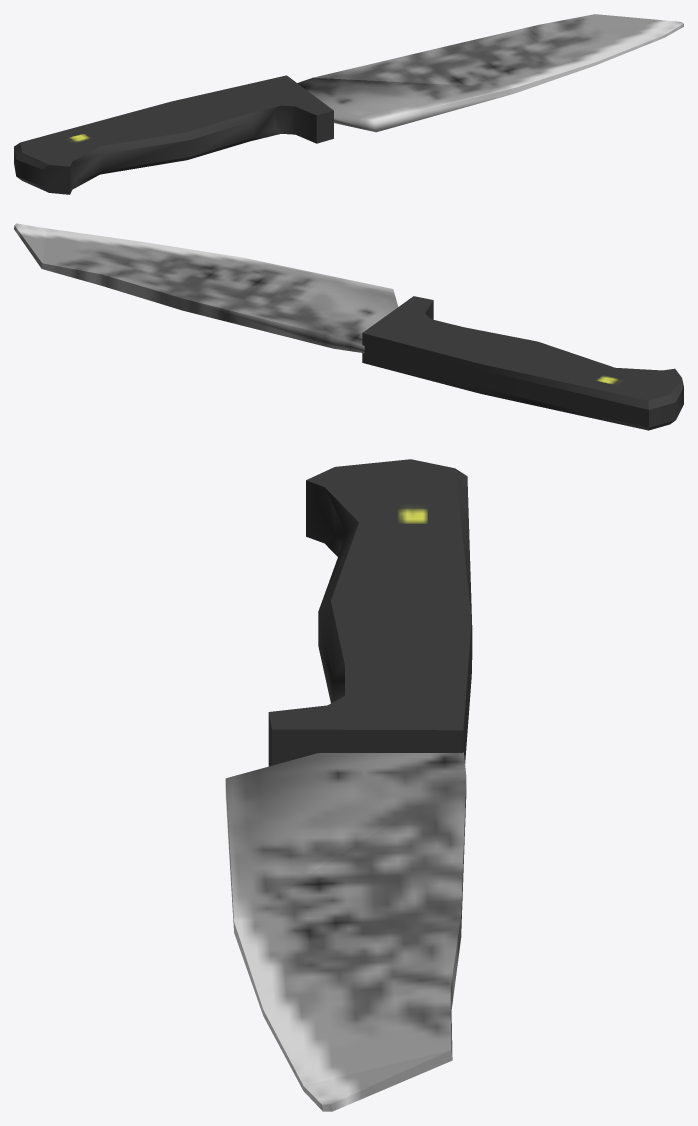
Rendered from PChefKnife01.fbx.
The picture shows the model from 3 angles, top to bottom: view 1: azimuth 30°, elevation 25°; view 2: azimuth 150°, elevation 25°; view 3: azimuth 270°, elevation 25°; orthographic projection. The views are drawn at different scales.
Parts seen in each view (by area): view 1: PKnife; view 2: PKnife; view 3: PKnife.
Part boxes in pixels (bbox=[...]): PKnife: bbox=[14, 14, 683, 194]; PKnife: bbox=[14, 223, 683, 430]; PKnife: bbox=[225, 459, 472, 1111].
Bounding box in the file's own units: 57.43 × 2.39 × 9.49.
